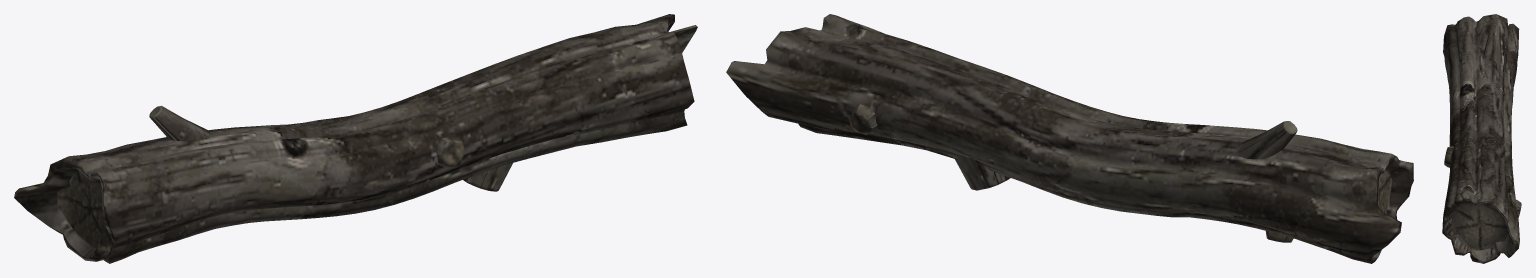
The model's file is Log2.fbx.
3 renders of one model, left to right at view 1: azimuth 30°, elevation 25°; view 2: azimuth 150°, elevation 25°; view 3: azimuth 270°, elevation 25°, orthographic. The views are drawn at different scales.
Parts seen in each view (by area): view 1: Log2_LOD0; view 2: Log2_LOD0; view 3: Log2_LOD0.
Boxes of the visible parts, x1,y1,x2,y2 form: Log2_LOD0: (14,14,697,263); Log2_LOD0: (726,14,1413,263); Log2_LOD0: (1442,14,1521,263).
Size of what is drawn, in the model's own units: 2.94 by 0.4613 by 0.6231.
